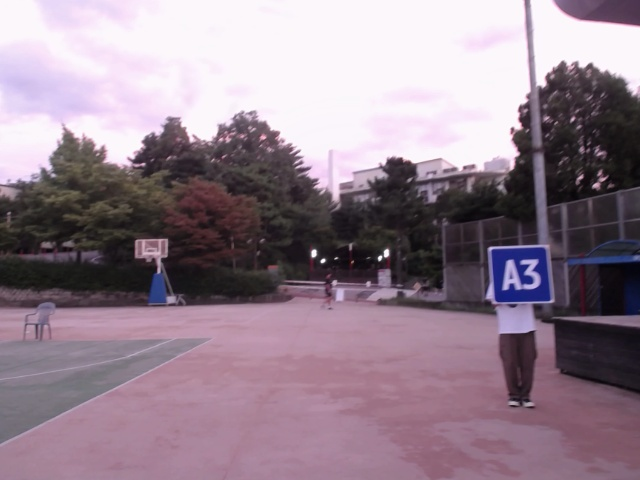delivery_a3: (490, 246, 553, 304)
